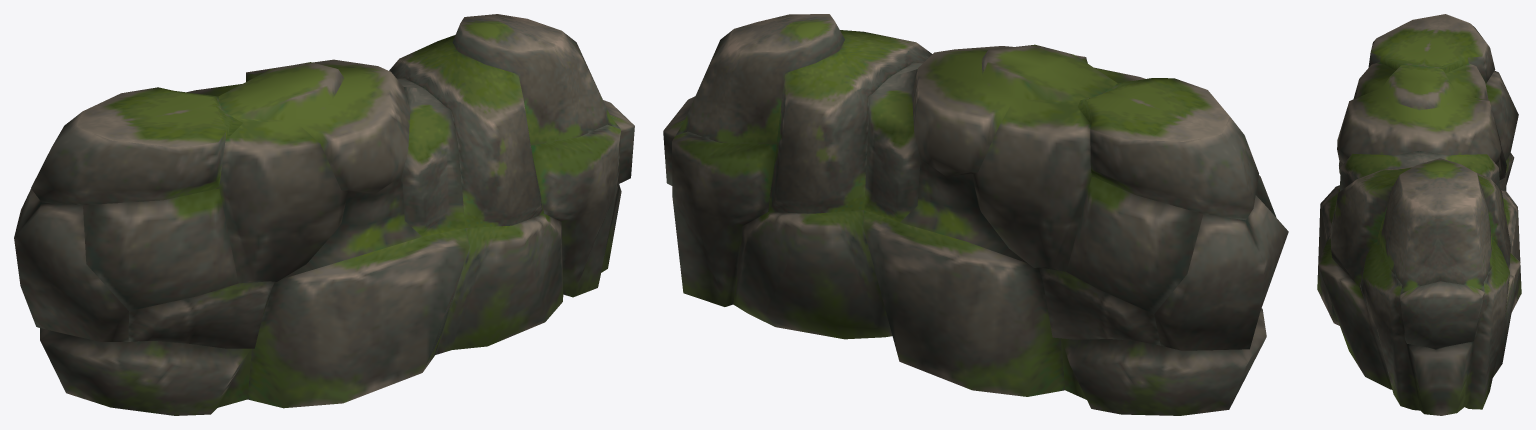
The model's file is shrine_wj004_04.FBX.
3 views of the same model, side by side, from view 1: azimuth 30°, elevation 25°; view 2: azimuth 150°, elevation 25°; view 3: azimuth 270°, elevation 25° (orthographic). The views are drawn at different scales.
Visible parts, largest first — view 1: shrine_wj004_04; view 2: shrine_wj004_04; view 3: shrine_wj004_04.
Boxes of the visible parts, x1,y1,x2,y2 form: shrine_wj004_04: [14, 14, 634, 415]; shrine_wj004_04: [663, 14, 1288, 415]; shrine_wj004_04: [1317, 14, 1521, 415].
Size of the model in its own units: 565 by 257 by 217.
1 material, 1 textured.
